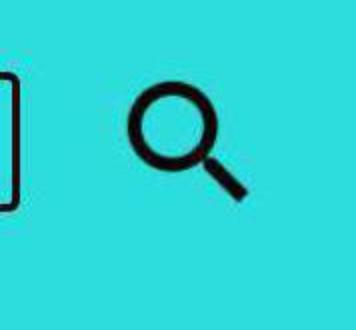ImgButton: (1, 1, 355, 329)
